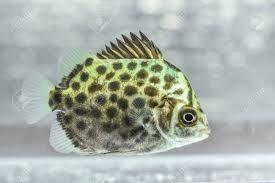Scat Fish: (12, 30, 212, 156)
